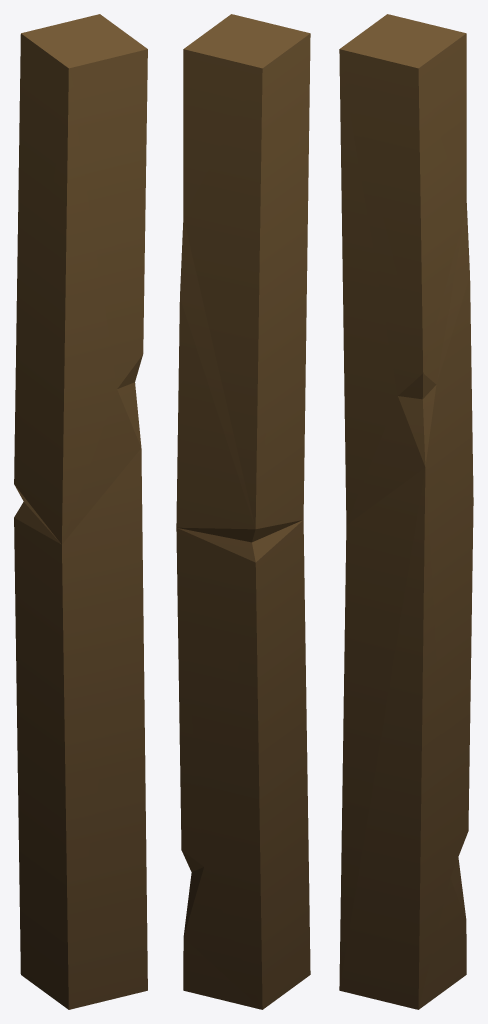
Rendered from Fence_06.fbx.
3 renders of one model, left to right at view 1: azimuth 30°, elevation 25°; view 2: azimuth 150°, elevation 25°; view 3: azimuth 330°, elevation 25°, orthographic.
Parts seen in each view (by area): view 1: Fence_06; view 2: Fence_06; view 3: Fence_06.
Boxes of the visible parts, <box> form: Fence_06: <box>14,14,147,1009</box>; Fence_06: <box>176,14,310,1009</box>; Fence_06: <box>339,14,473,1009</box>.
Size of the model in its own units: 0.0999 by 1.13 by 0.1199.
